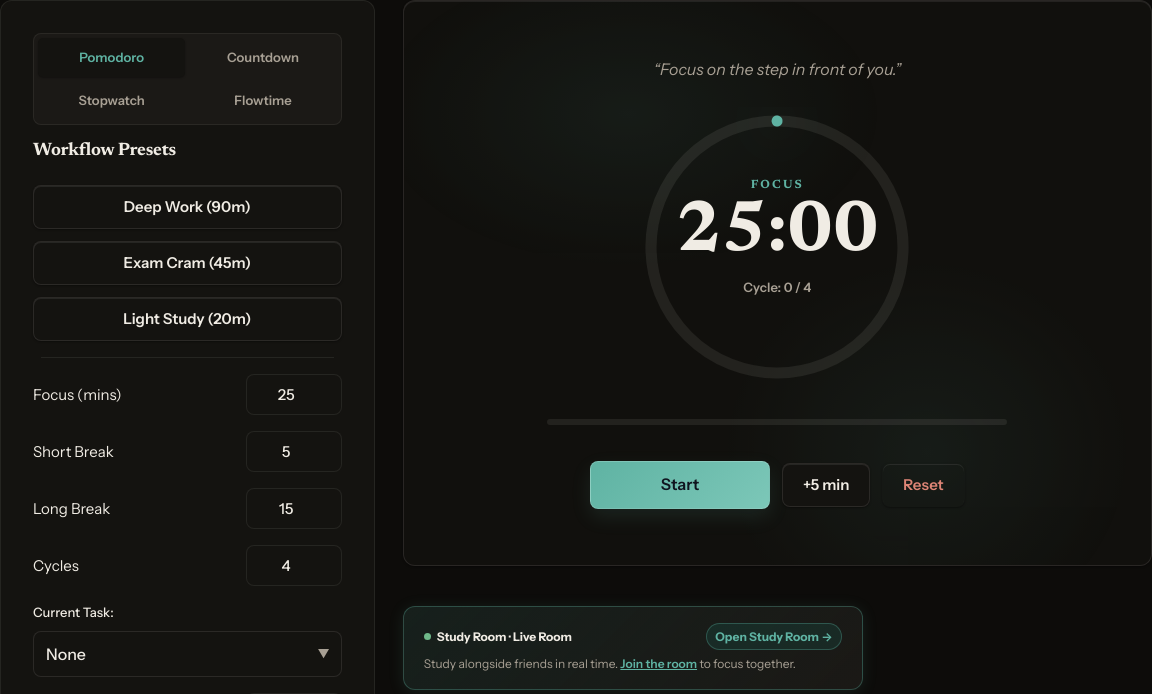
Test: TimerView › counts down once per second
The image size is (1152, 694).
Step 1. Click the button "Start" → (680, 485), box [590, 461, 770, 509]
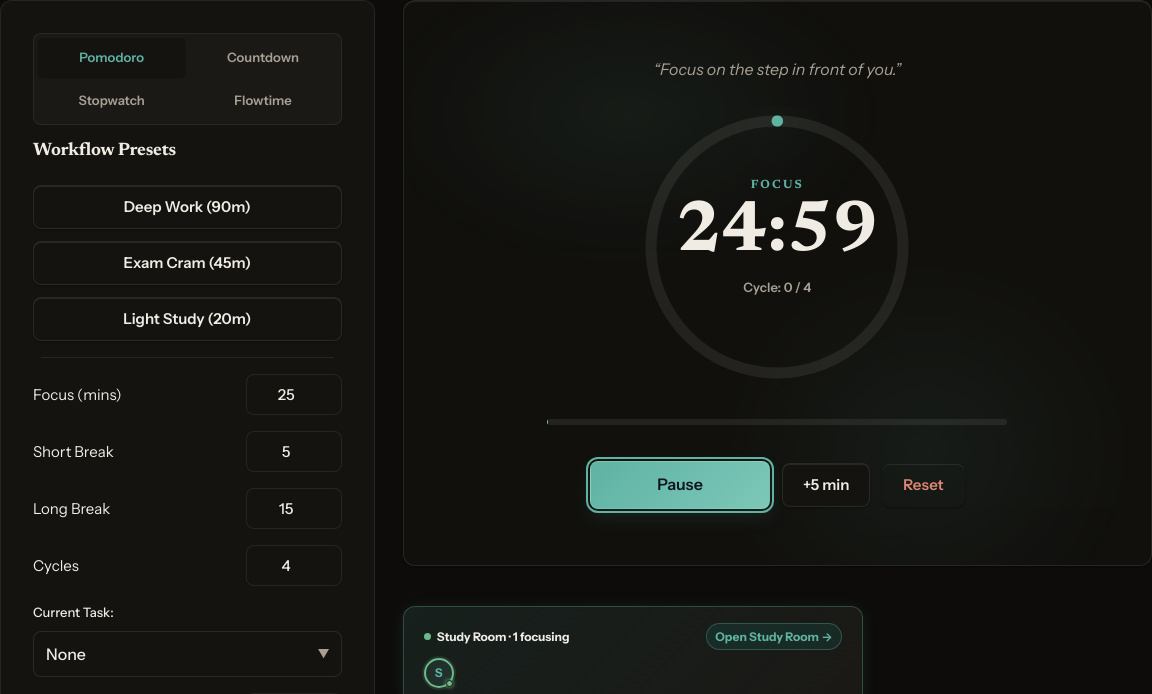
Now the text "24:59" is shown, box [676, 197, 879, 269]
